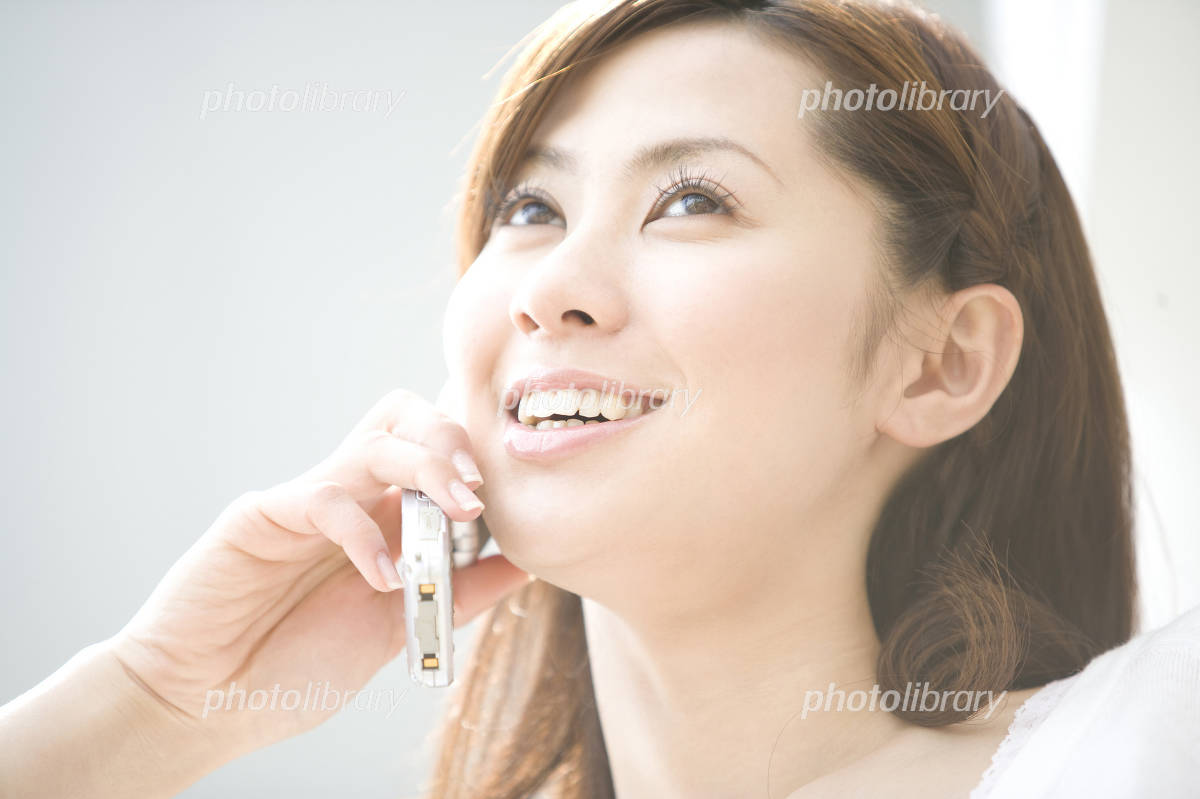phone: (310, 387, 528, 692)
talk: (130, 117, 804, 751)
